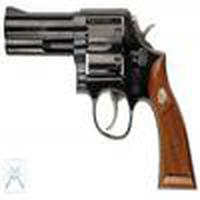gun: (4, 3, 200, 182)
